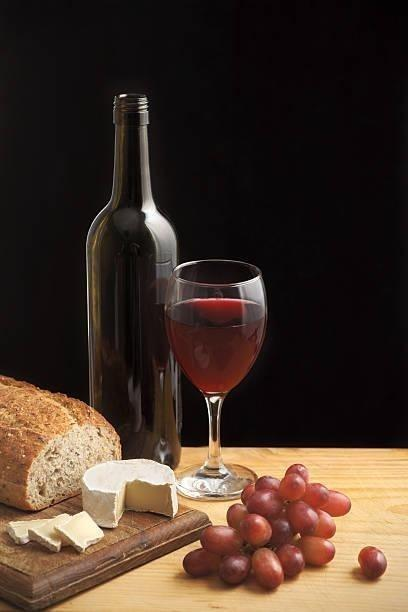bottle-glass: (81, 90, 182, 467)
glass-wine: (164, 258, 267, 499)
